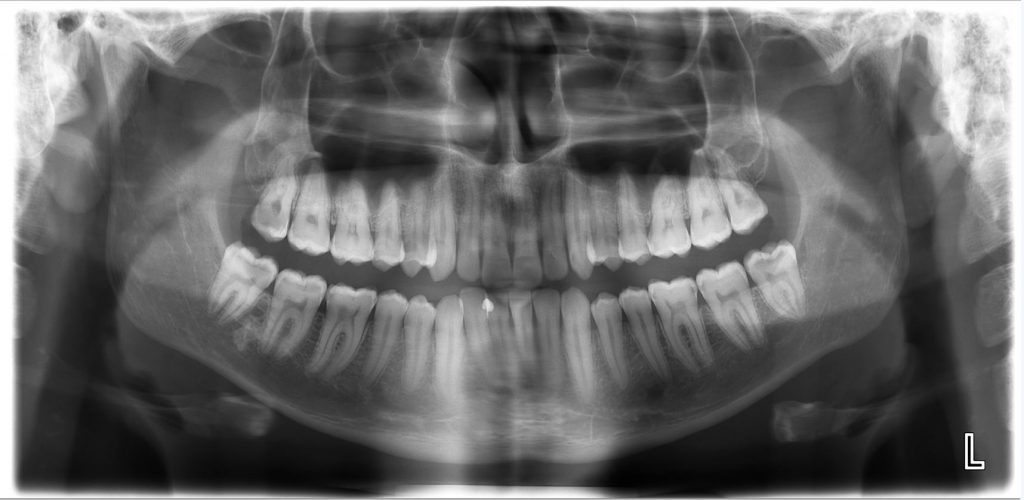canine: (557, 282, 598, 402), (427, 165, 461, 281), (565, 167, 596, 283), (434, 291, 463, 393)
incisor: (477, 166, 516, 290), (511, 165, 545, 291), (540, 170, 571, 287), (457, 283, 489, 395), (532, 289, 565, 394), (484, 287, 513, 392), (510, 290, 539, 390), (459, 168, 482, 285)
molar: (692, 251, 768, 351), (304, 283, 380, 378), (647, 273, 716, 377), (257, 265, 332, 356), (203, 239, 279, 328), (742, 241, 815, 326), (682, 151, 735, 260), (716, 151, 778, 239), (246, 151, 299, 245), (646, 163, 697, 259), (291, 156, 333, 266), (332, 168, 374, 270)
premolar: (618, 283, 674, 383), (397, 162, 439, 283), (363, 286, 410, 394), (614, 162, 652, 280), (590, 292, 631, 394), (589, 167, 627, 275), (401, 288, 436, 395), (371, 171, 407, 273)
